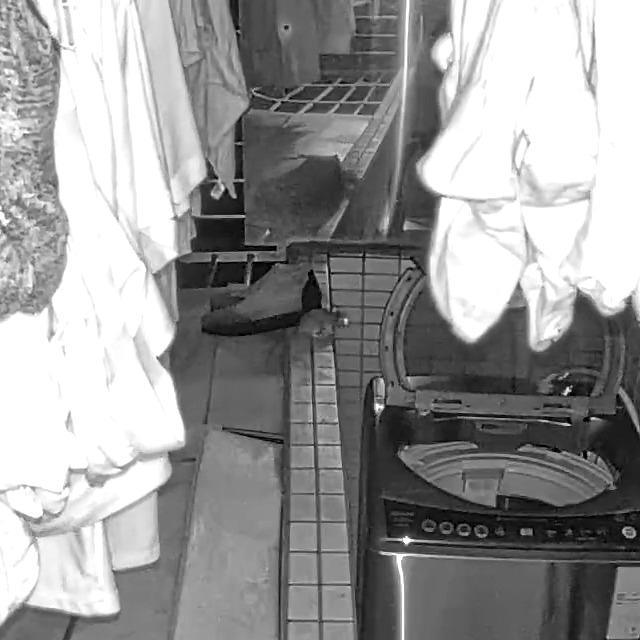rat: (264, 304, 350, 372)
